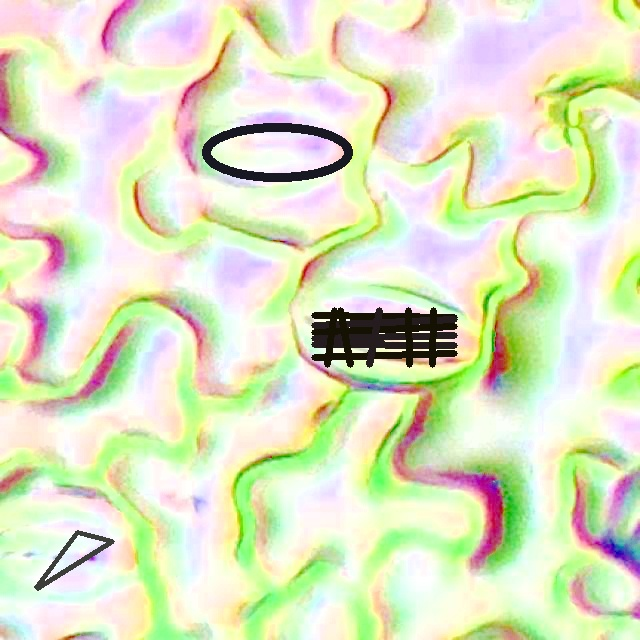close: (201, 122, 353, 181), (34, 530, 113, 589)
open: (312, 308, 457, 366)
